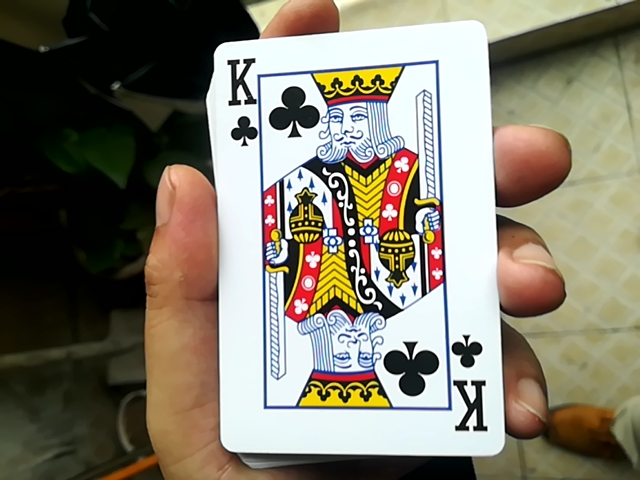mh k: (206, 13, 497, 451)
